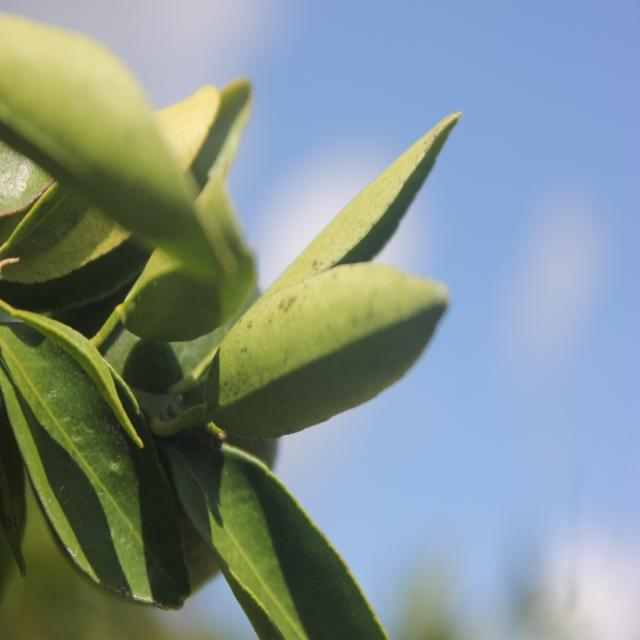melanose: (194, 244, 438, 441)
